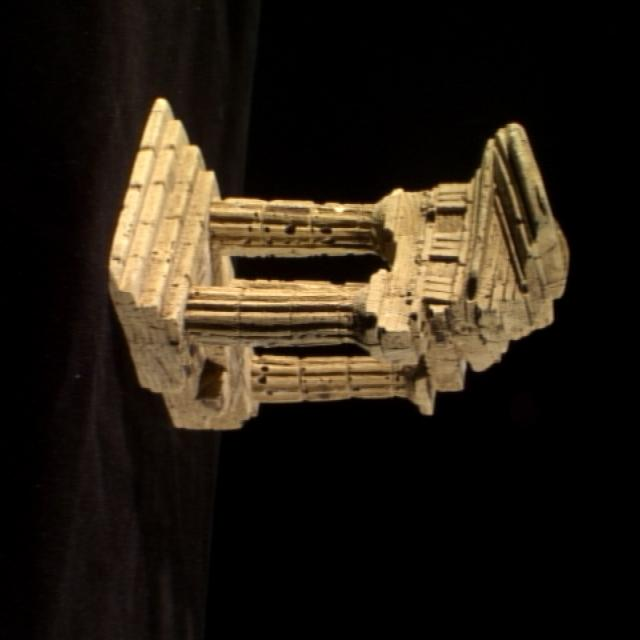Instance-Segmentation: (110, 99, 568, 428)
